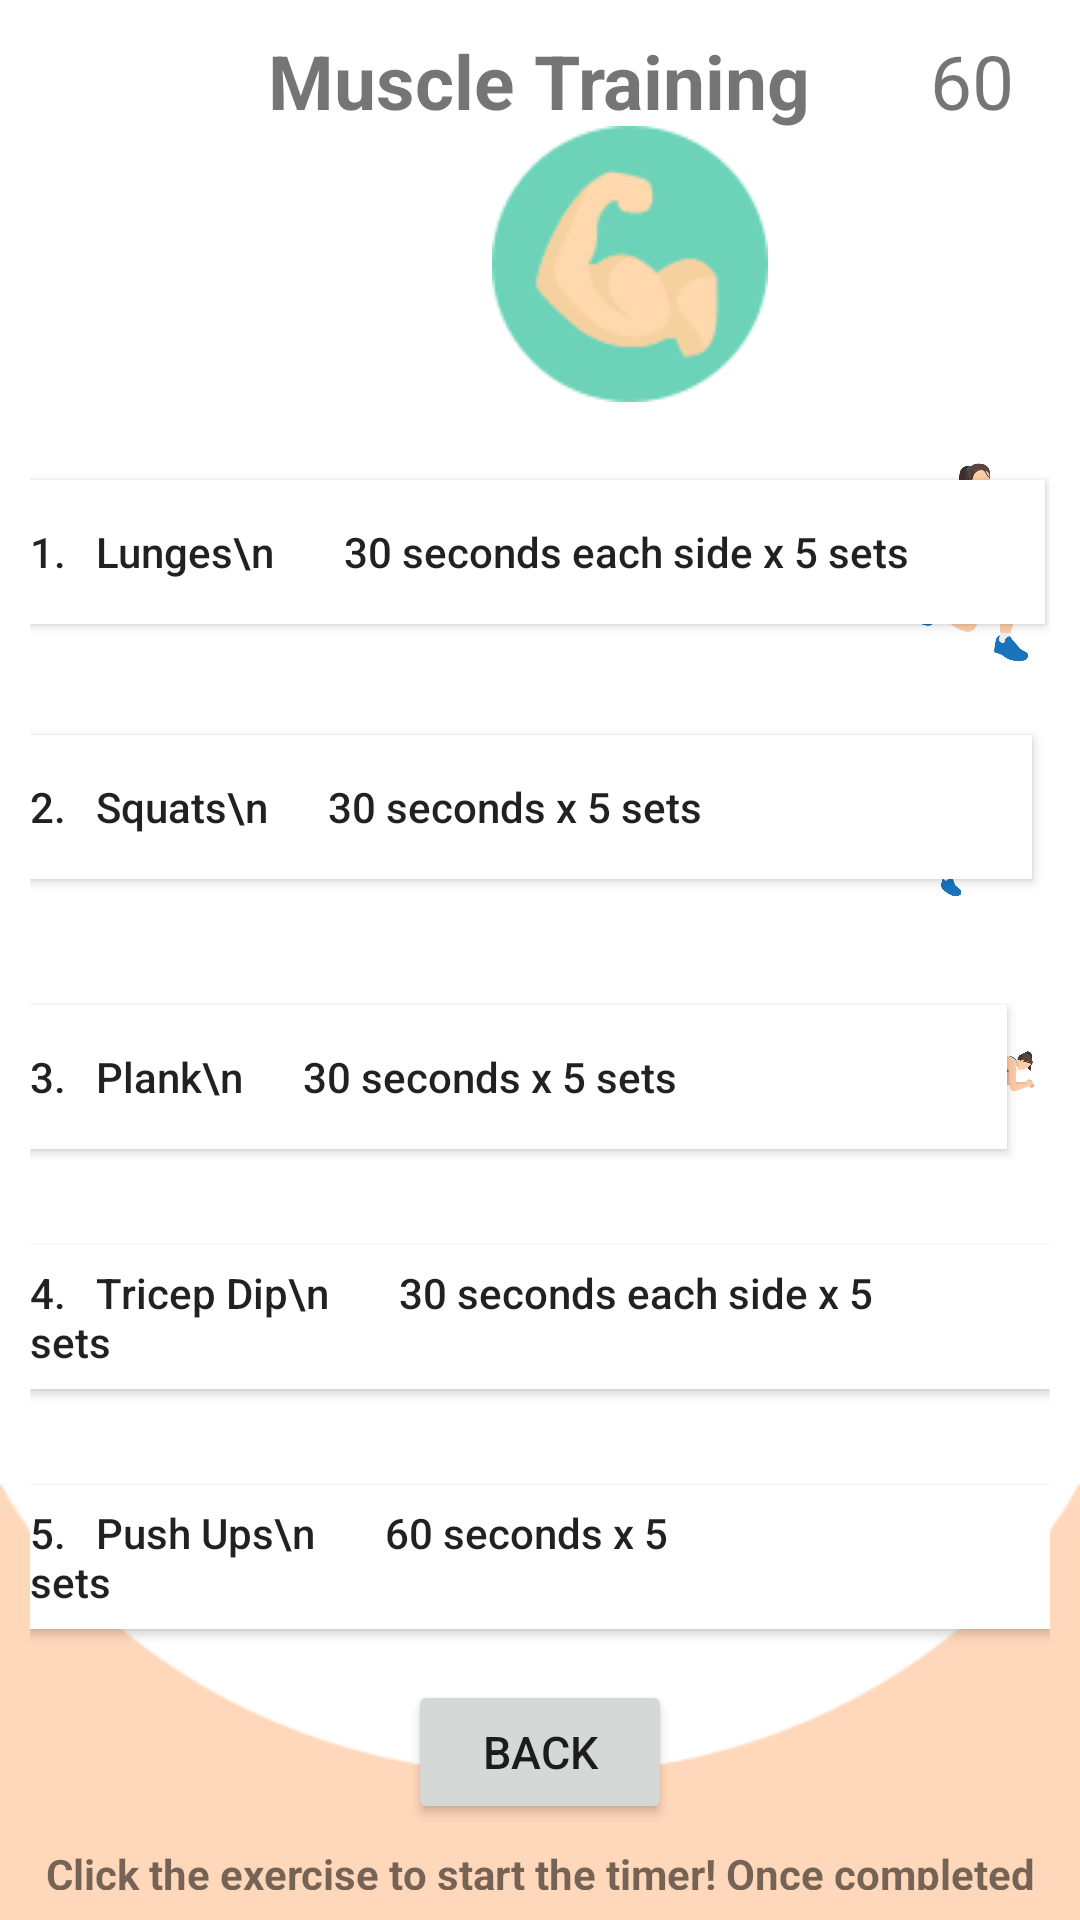

Where to tap for icons on this 1080 × 1920 app screen, as (x,y):
buildmuscleheader: (630,264)
